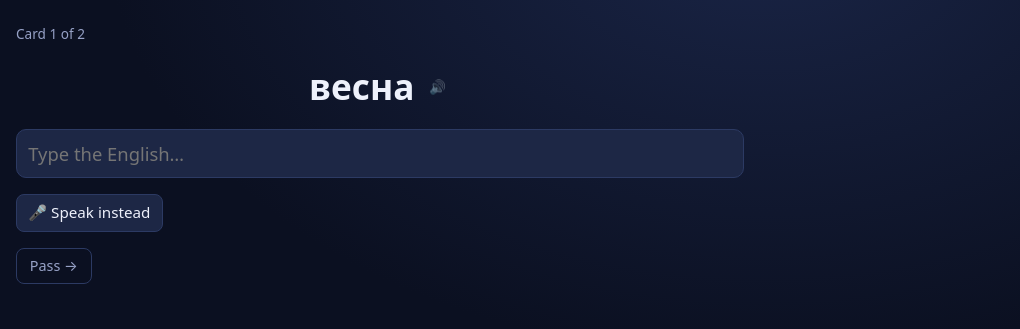
Test case: FlashcardExercise › a wrong spoken answer reveals the correct answer
The image size is (1020, 329).
Click the button with class "speak-toggle" at (89, 213), box x1=16 y1=194 x2=163 y2=232
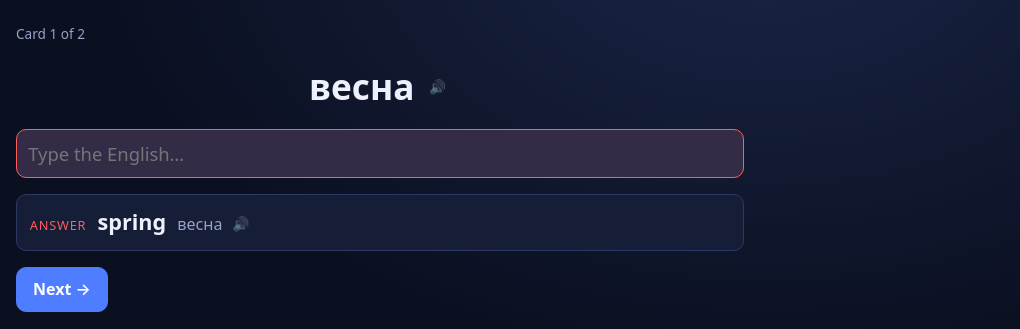
Expected: the text with class "reveal-en" reads "spring", x1=98 y1=207 x2=166 y2=236
